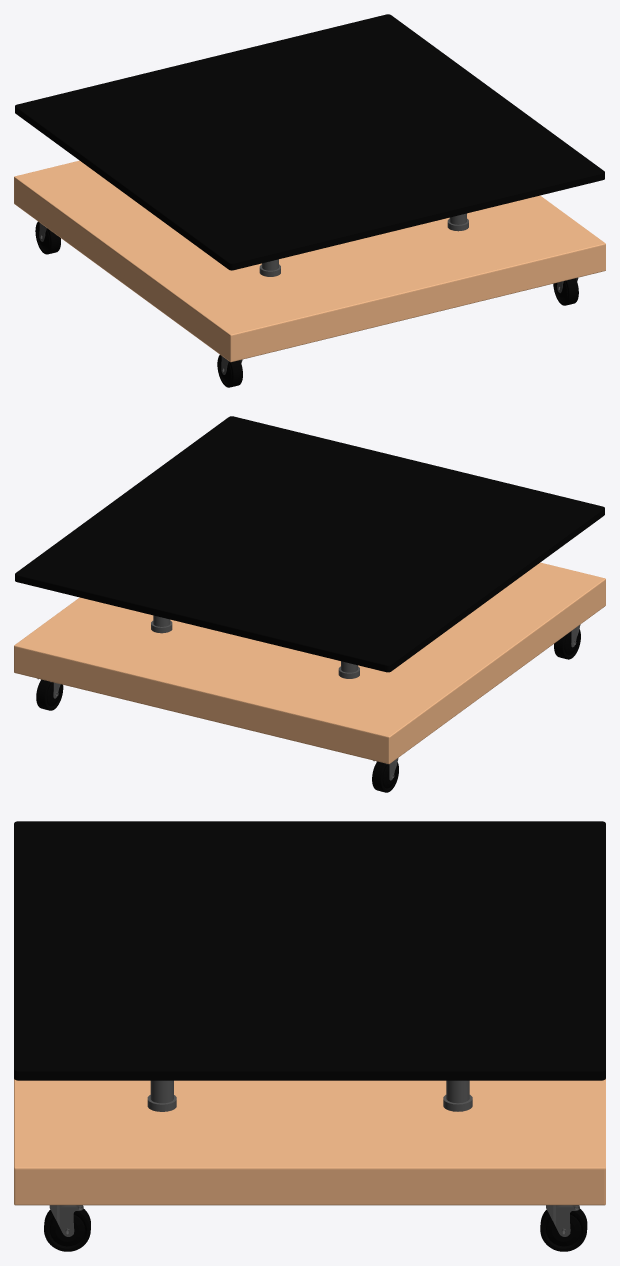
Rendered from model_Modern_CoffieeTable.fbx.
The picture shows the model from 3 angles, top to bottom: view 1: azimuth 30°, elevation 25°; view 2: azimuth 150°, elevation 25°; view 3: azimuth 270°, elevation 25°; orthographic projection. The views are drawn at different scales.
Parts seen in each view (by area): view 1: Coffee_Table_Glass_050; view 2: Coffee_Table_Glass_050; view 3: Coffee_Table_Glass_050.
Part boxes in pixels (left/top/right/bottom): Coffee_Table_Glass_050: left=14, top=14, right=605, bottom=387; Coffee_Table_Glass_050: left=14, top=416, right=605, bottom=792; Coffee_Table_Glass_050: left=14, top=821, right=605, bottom=1251.
Size of the model in its own units: 100 by 35.71 by 100.
